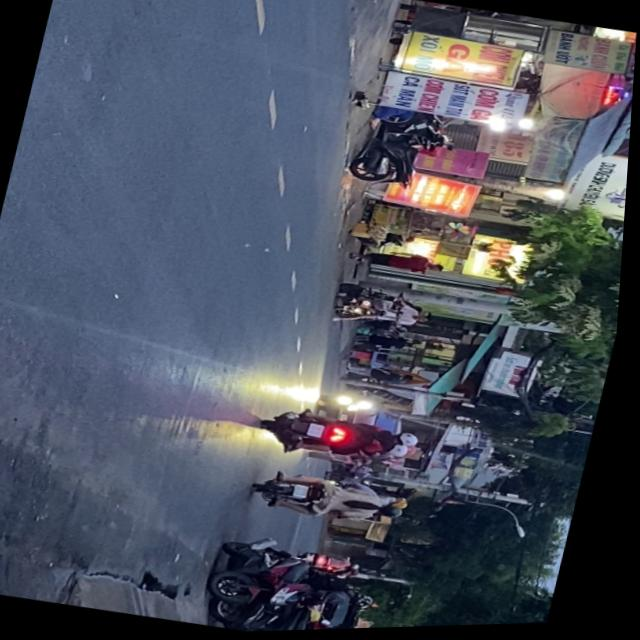helmet: (400, 433, 427, 451), (391, 444, 418, 461)
licenseplate: (258, 400, 430, 476)
nohelmet: (312, 423, 330, 440)
